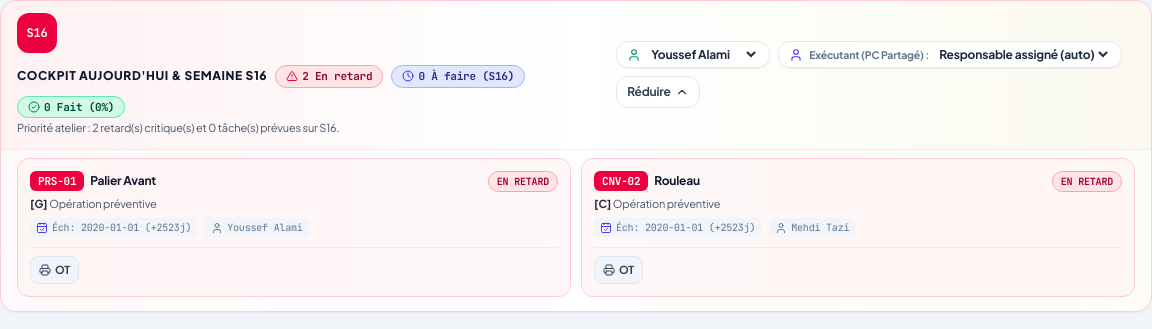
Test: Preventive Maintenance — Full Audit Fixes, RBAC, SOLO_EXPERT & Field Technicians › 7. SOLO_EXPERT Views & Technician Management UI › filters Weekly Cockpit by technician and supports OT print button
Later steps or results of the test are not shown.
Step 1. Select "Youssef Alami" in the dropdown named "Filtrer la file par technicien" → (703, 55), box [647,46,759,63]
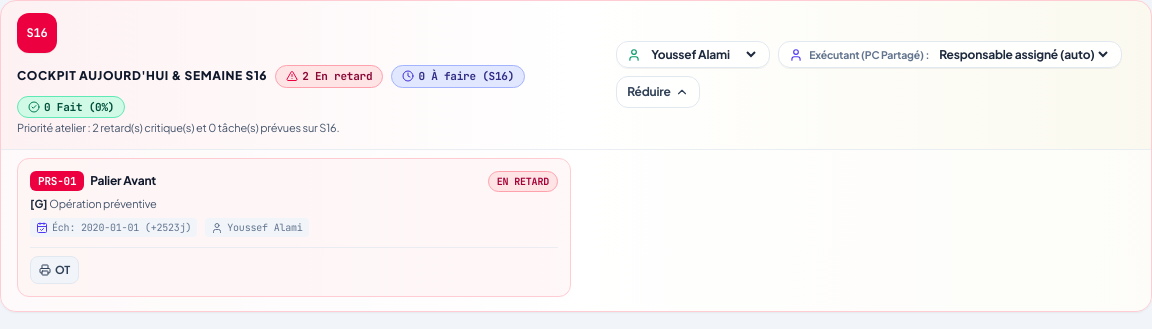
Expected: the text "Palier Avant" is shown, [90,173,156,189]
Result: the text "Rouleau" is gone
